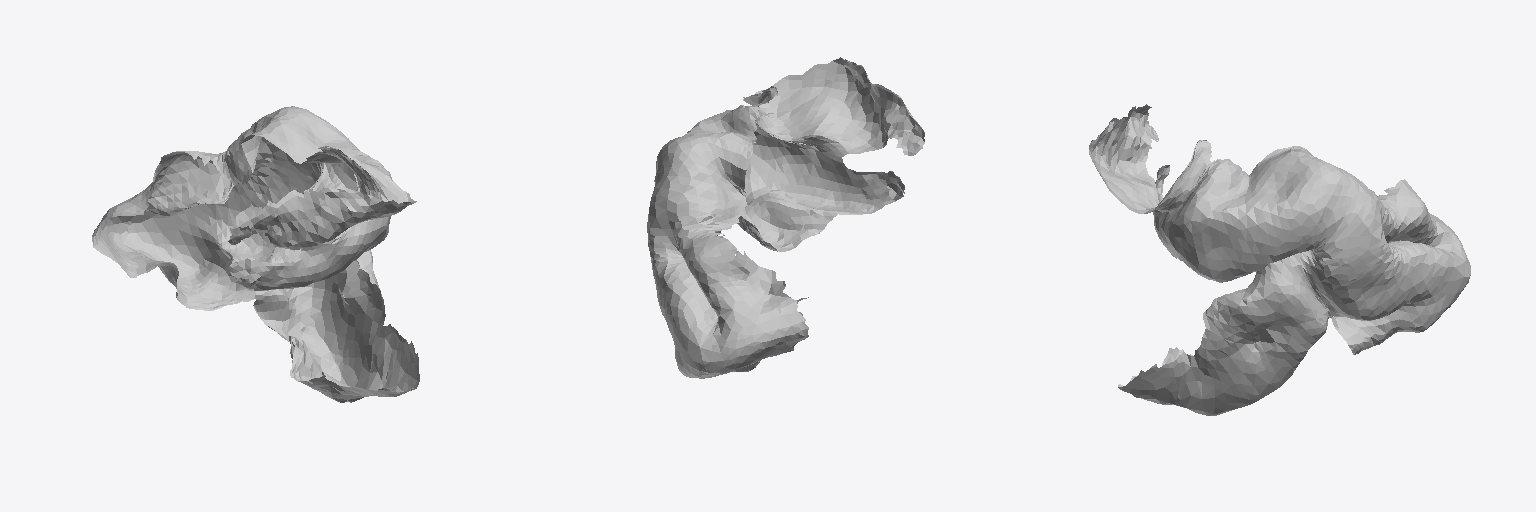
The model's file is L_parietal_supramarginal.obj.
3 views of the same model, side by side, from view 1: azimuth 30°, elevation 25°; view 2: azimuth 150°, elevation 25°; view 3: azimuth 270°, elevation 25° (orthographic).
Parts seen in each view (by area): view 1: L_parietal_supramarginal_R_parietal_supramarginal; view 2: L_parietal_supramarginal_R_parietal_supramarginal; view 3: L_parietal_supramarginal_R_parietal_supramarginal.
Boxes of the visible parts, box(x1,y1,x2,y2) form: L_parietal_supramarginal_R_parietal_supramarginal: box(92, 106, 419, 402); L_parietal_supramarginal_R_parietal_supramarginal: box(647, 57, 924, 378); L_parietal_supramarginal_R_parietal_supramarginal: box(1089, 104, 1470, 415).
Size of the model in its own units: 110 by 135 by 178.